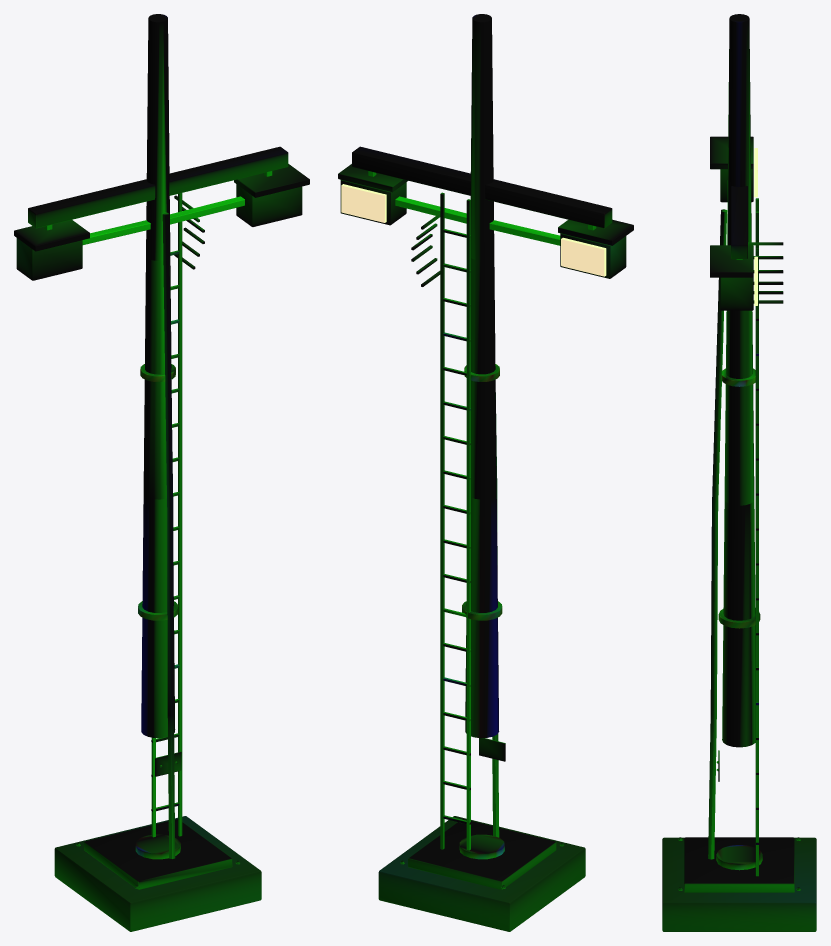
File: floodlight_tower.glb
3 views of the same model, side by side, from view 1: azimuth 30°, elevation 25°; view 2: azimuth 150°, elevation 25°; view 3: azimuth 270°, elevation 25° (orthographic).
Parts seen in each view (by area): view 1: FloodlightTower; view 2: FloodlightTower; view 3: FloodlightTower.
Part boxes in pixels (x1,y1,x2,y2): FloodlightTower: (14,14,309,931); FloodlightTower: (338,14,633,931); FloodlightTower: (662,14,816,931).
Bounding box in the file's own units: 2.5 × 7.57 × 1.2.
